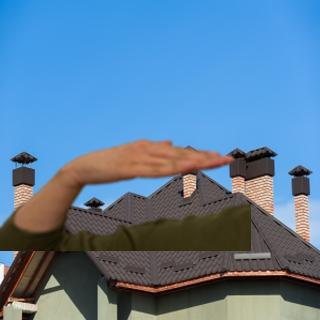WAIT: (62, 134, 239, 189)
